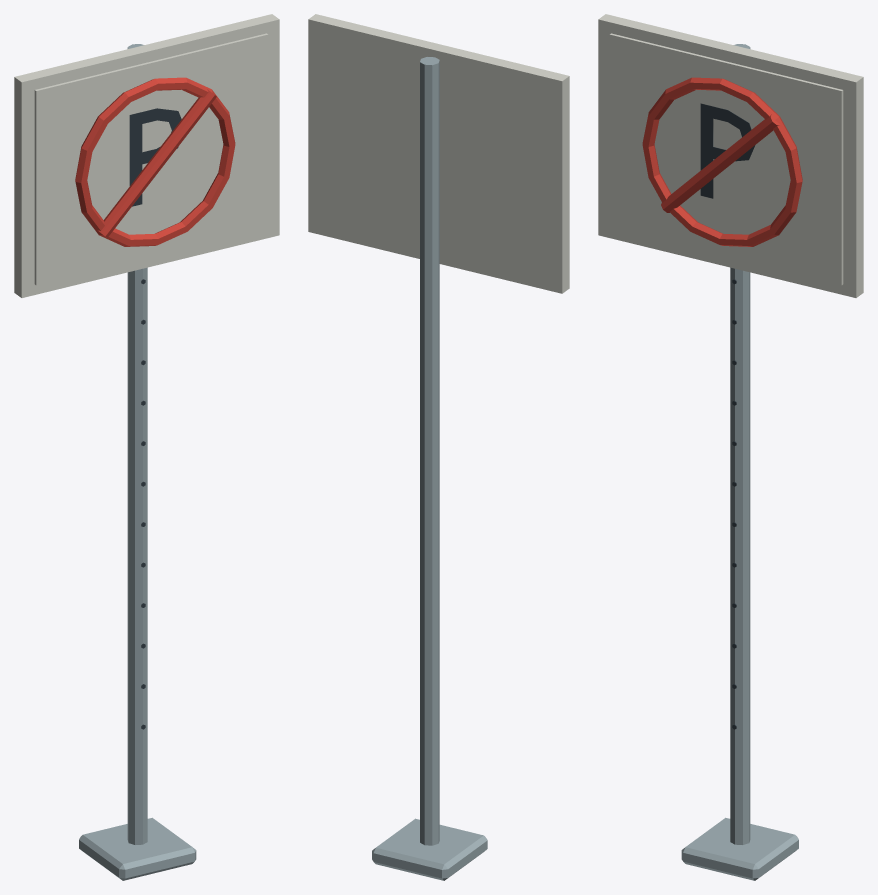
File: Sign_No_Parking.glb
3 renders of one model, left to right at view 1: azimuth 30°, elevation 25°; view 2: azimuth 150°, elevation 25°; view 3: azimuth 330°, elevation 25°, orthographic.
Parts seen in each view (by area): view 1: Sign_No_Parking; view 2: Sign_No_Parking; view 3: Sign_No_Parking.
Part boxes in pixels (x1,y1,x2,y2): Sign_No_Parking: (14,14,279,880); Sign_No_Parking: (308,14,569,880); Sign_No_Parking: (598,14,863,880).
Bounding box in the file's own units: 0.8 × 2.42 × 0.241.
